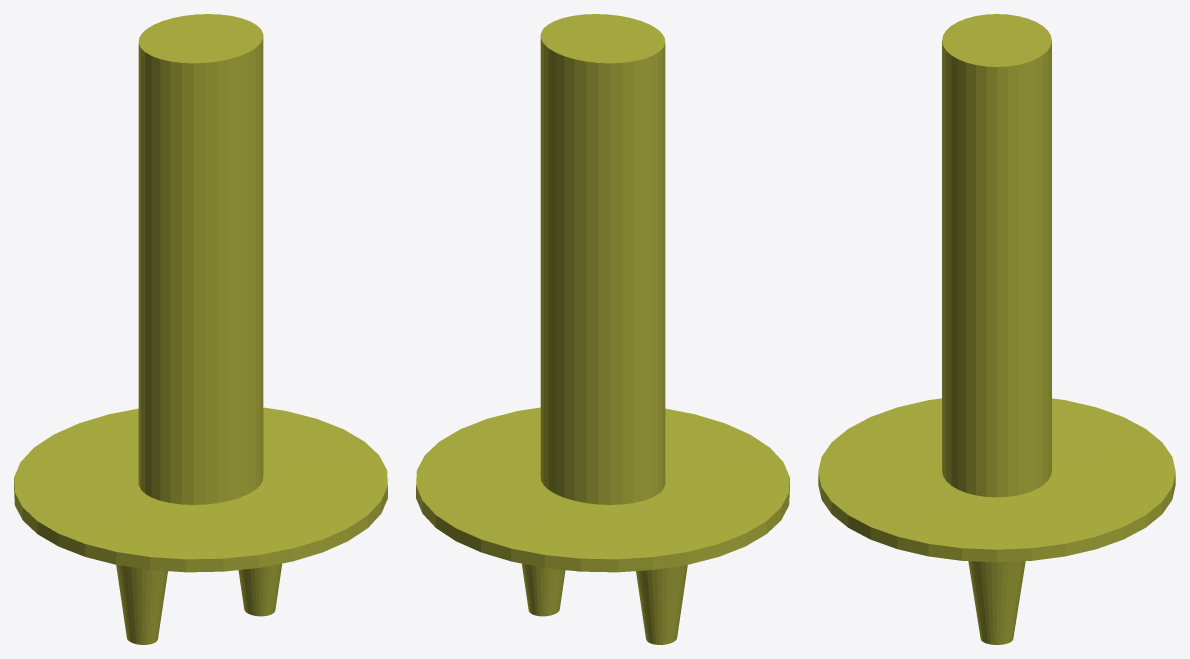
File: FIL2.fbx
3 views of the same model, side by side, from view 1: azimuth 30°, elevation 25°; view 2: azimuth 150°, elevation 25°; view 3: azimuth 270°, elevation 25° (orthographic). The views are drawn at different scales.
Visible parts, largest first — view 1: Cylinder.002; view 2: Cylinder.002; view 3: Cylinder.002.
Part boxes in pixels (<box>): Cylinder.002: <box>14,14,387,644</box>; Cylinder.002: <box>416,14,789,644</box>; Cylinder.002: <box>818,14,1175,644</box>.
Size of the model in its own units: 303 by 518 by 295.
